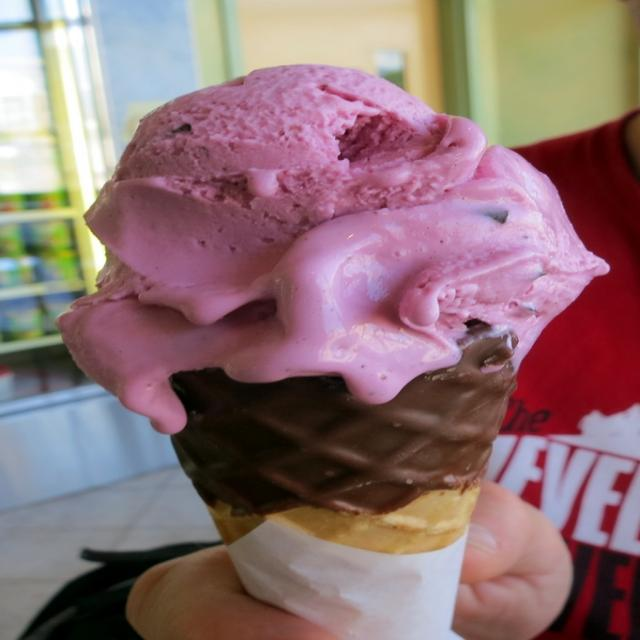Ice cream: (88, 78, 572, 558)
